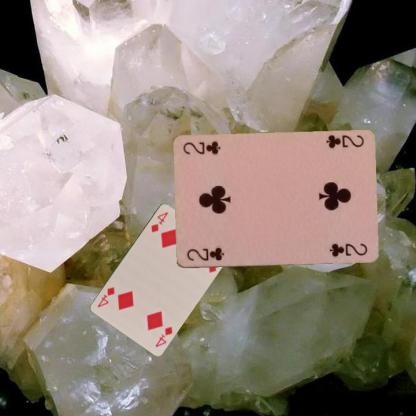2c: (323, 132, 365, 150), (184, 245, 224, 262)
4d: (152, 323, 174, 348), (148, 209, 169, 234)
